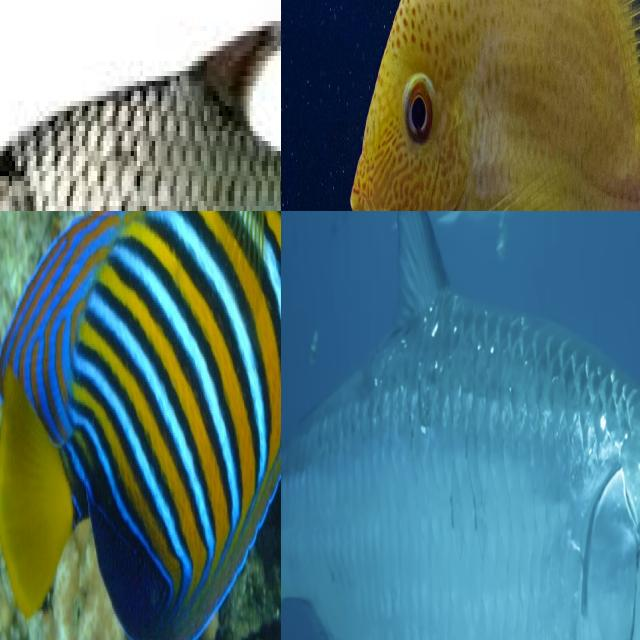fish: (0, 211, 281, 640), (0, 0, 281, 211)
